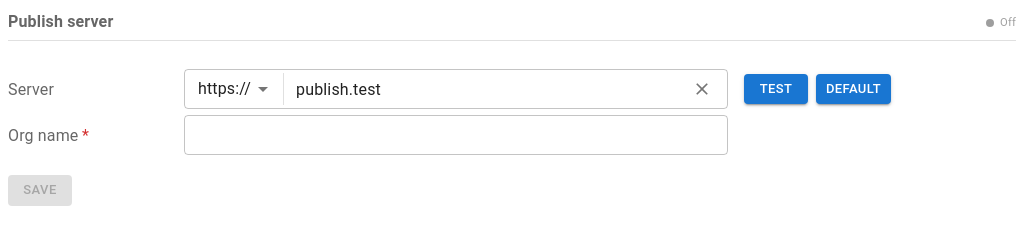
Test case: PublishSettings › Default server › should put the default server back when Default is clicked
What coordinates should you click on to do the following:
click the button with aria-label "Use the default publish server"
I would click on:
 (854, 89)
Its box is [816,74,891,104].
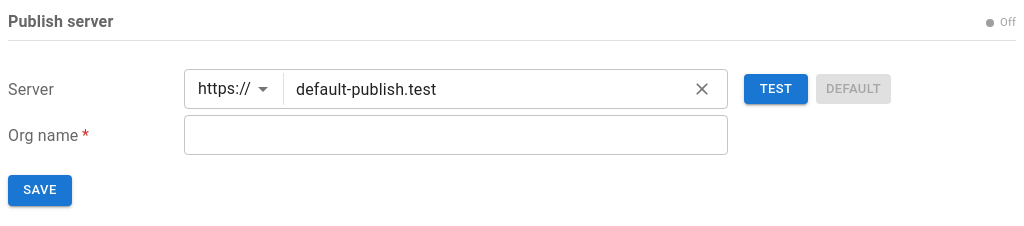
Expected: the field named "Publish server host" holds "default-publish.test", [296,69,679,109]
Expected: the button with aria-label "Use the default publish server" is disabled, [816,74,891,104]
